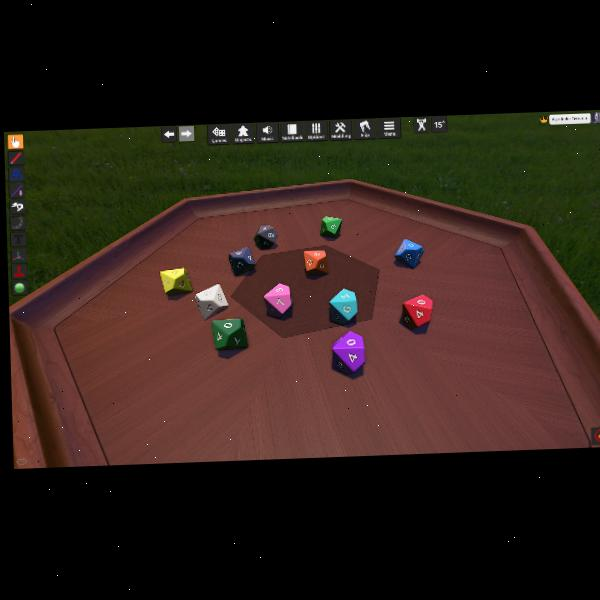d10: (331, 330, 365, 373), (194, 283, 228, 320), (212, 317, 247, 351), (402, 293, 434, 329), (327, 288, 356, 324), (264, 283, 293, 317), (160, 266, 193, 295), (394, 237, 423, 269), (229, 245, 255, 275), (253, 224, 278, 249), (303, 250, 325, 275), (320, 215, 342, 237)
